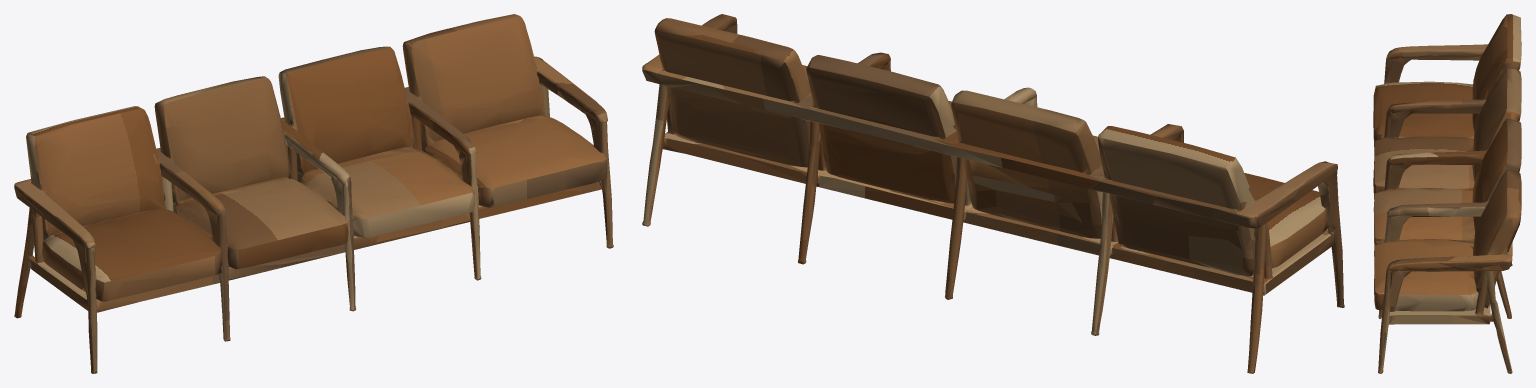
File: term_seating.glb
3 views of the same model, side by side, from view 1: azimuth 30°, elevation 25°; view 2: azimuth 150°, elevation 25°; view 3: azimuth 270°, elevation 25° (orthographic). The views are drawn at different scales.
Parts seen in each view (by area): view 1: LO; view 2: LO; view 3: LO.
Boxes of the visible parts, x1,y1,x2,y2 form: LO: (14,14,613,373); LO: (642,14,1344,373); LO: (1373,14,1521,373).
Bounding box in the file's own units: 2.6 × 0.8558 × 0.7491.
Materials: 1 (1 with a texture image).
